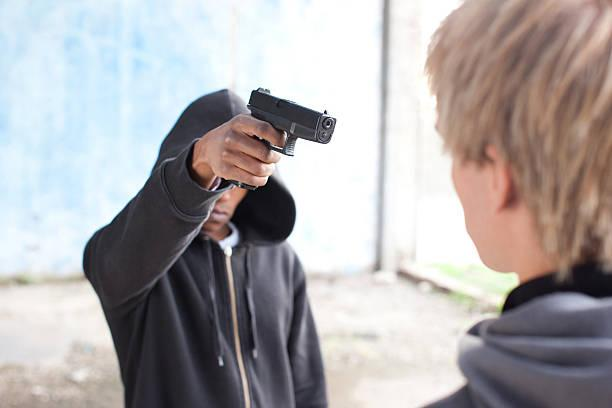weapon: (238, 81, 338, 166)
